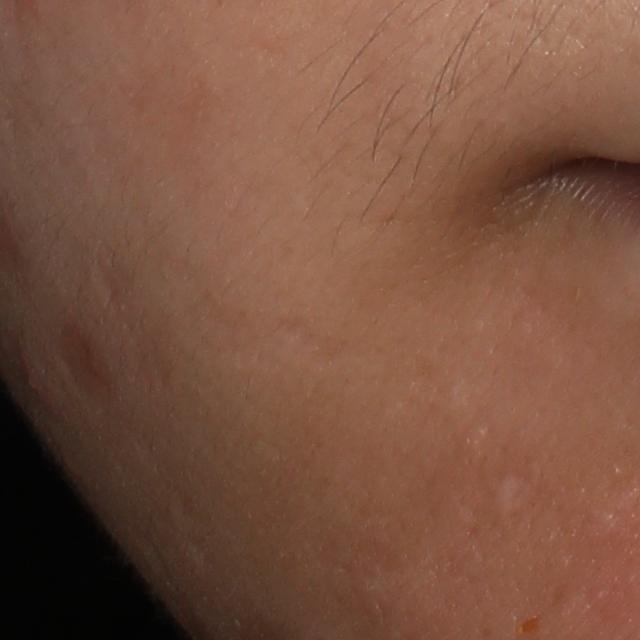hypertrophic_scar: (486, 471, 522, 529)
